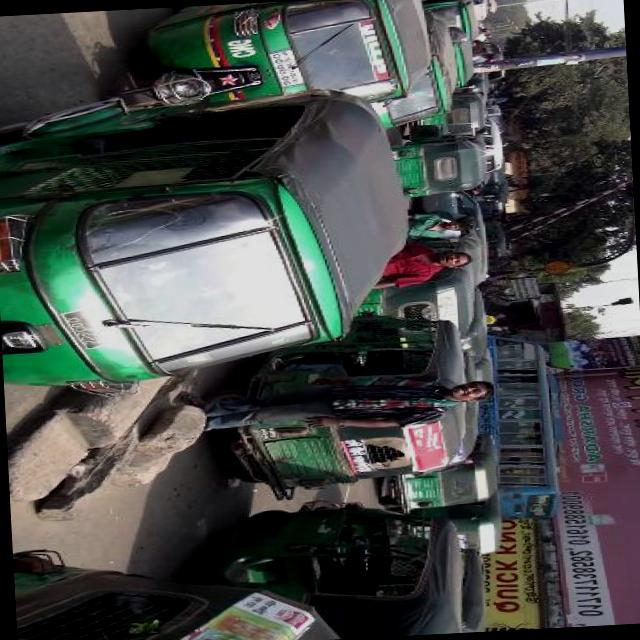bus: (472, 332, 576, 530)
car: (418, 192, 488, 250)
motorcycle: (0, 87, 425, 386), (218, 310, 476, 491), (122, 0, 435, 121), (15, 529, 352, 640), (226, 494, 466, 640), (350, 240, 483, 346), (346, 11, 464, 129), (378, 433, 506, 512), (406, 490, 505, 560), (396, 138, 493, 199), (408, 92, 494, 141), (449, 544, 492, 634), (417, 0, 487, 45), (459, 286, 495, 362), (448, 26, 480, 90), (464, 354, 502, 394), (478, 180, 512, 218), (484, 225, 516, 262), (478, 294, 518, 310)
truck: (474, 121, 511, 178), (476, 42, 516, 86)
